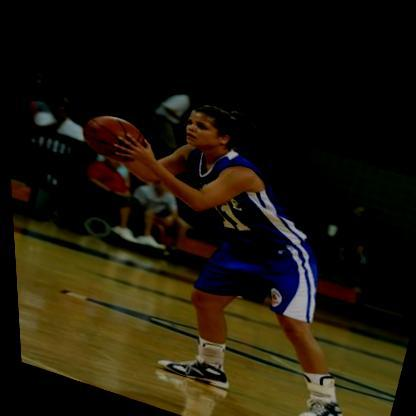basketball: (74, 103, 152, 167)
